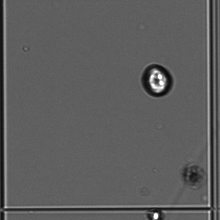Dead Cell: (182, 163, 206, 189)
Living Cell: (139, 61, 175, 100), (146, 208, 166, 219)
